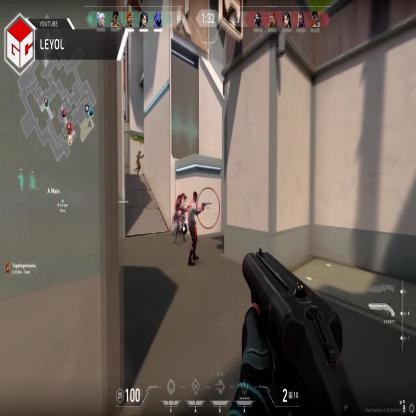enemy: (187, 192, 203, 262), (176, 190, 186, 235), (174, 192, 180, 240), (136, 148, 141, 177)
enemy_head: (192, 192, 198, 203), (184, 194, 188, 204), (177, 195, 180, 203), (138, 150, 141, 154)
